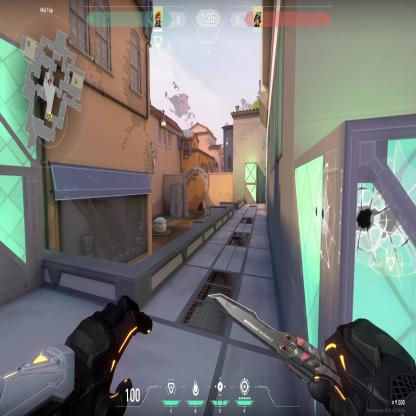enemy: (202, 198, 204, 218)
